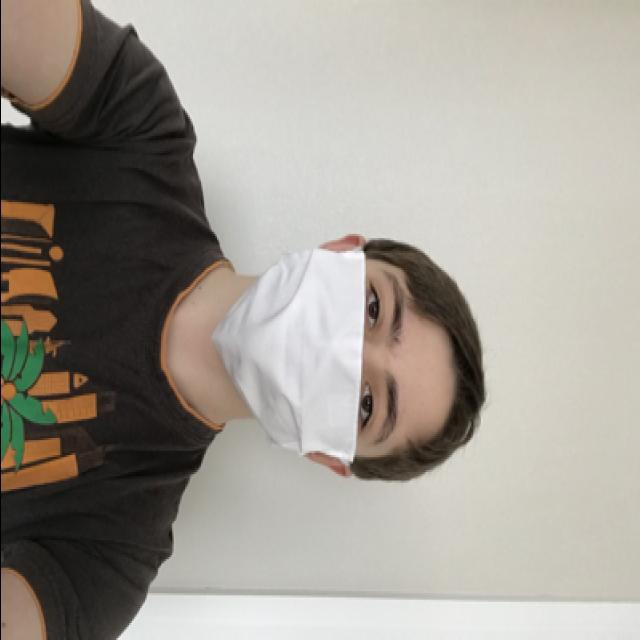with_mask: (210, 244, 420, 468)
